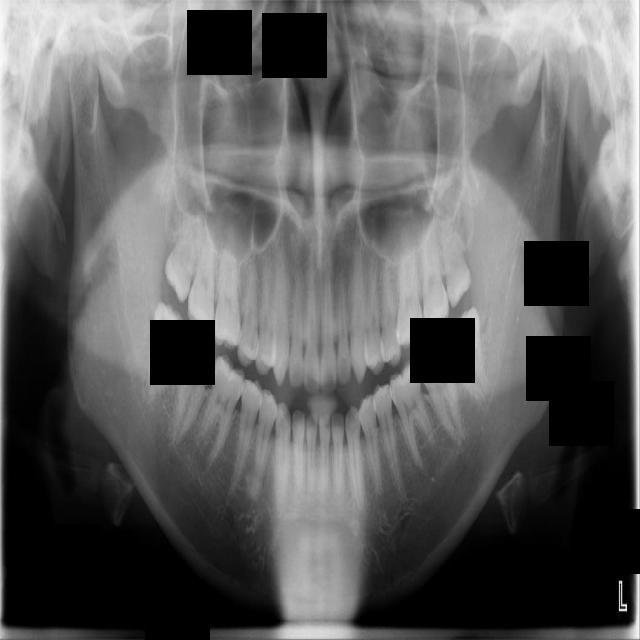3M ESPE Implant: (158, 207, 207, 305)
73: (598, 559, 602, 570)
BioHorizons Implant: (418, 217, 451, 330)
BioLife Implant: (438, 210, 475, 310)
Biomet 3i Implant: (443, 305, 493, 409)
Blue Sky Bio Implant: (414, 336, 463, 442)
Caries: (186, 221, 217, 334)
Implant: (170, 331, 220, 447)
Keystone Dental Implant: (142, 301, 192, 413)
